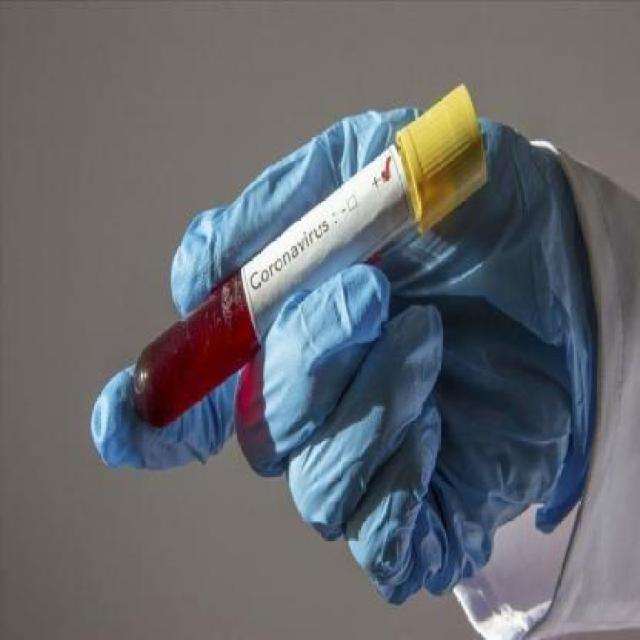Experimental-tube: (134, 80, 488, 429)
